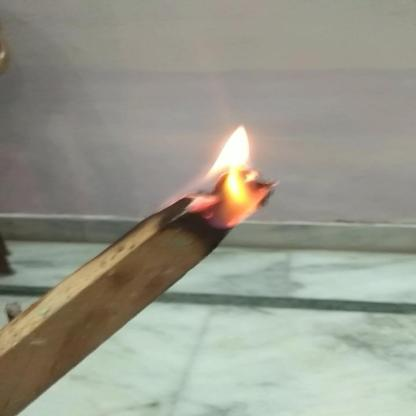fire: (154, 121, 297, 235)
